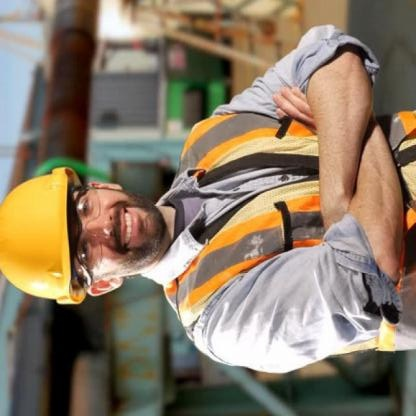vest: (166, 97, 415, 346)
yellow: (2, 155, 90, 321)
